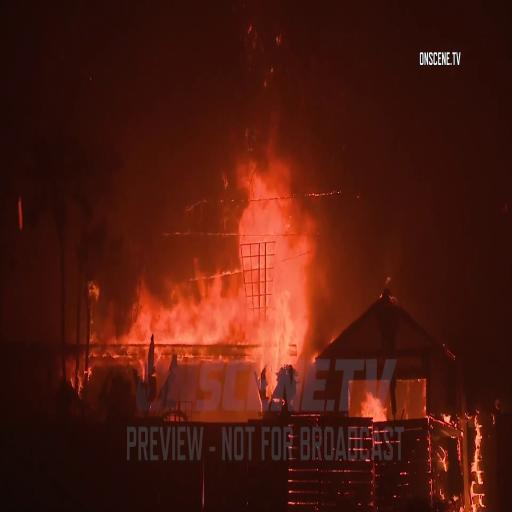fire: (90, 162, 316, 340)
